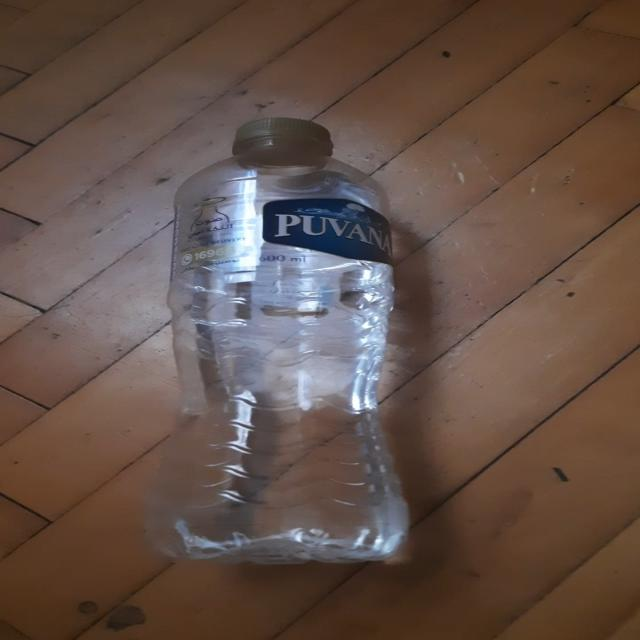Plastic: (145, 118, 409, 569)
